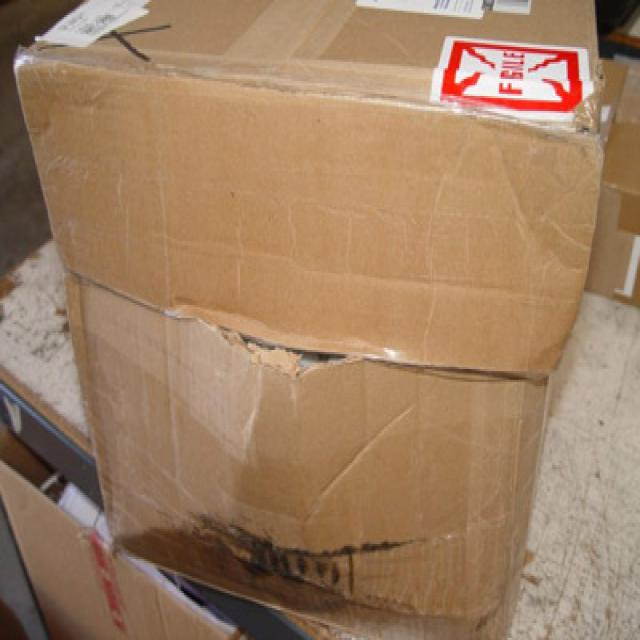Kardus kondisi rusak: (13, 1, 604, 384), (59, 267, 558, 640)
